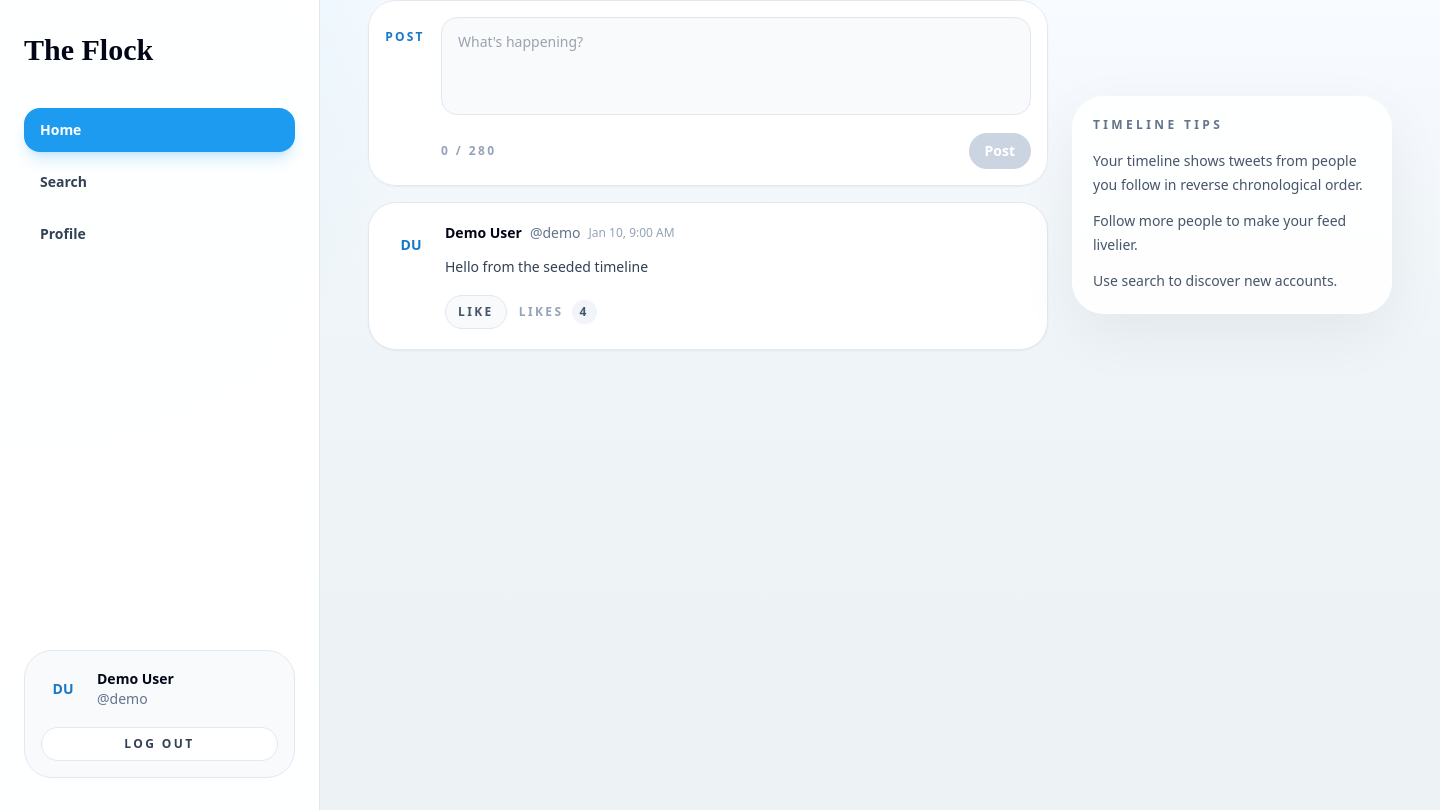
Timeline page › shows a friendly message when the like mutation fails
The width and height of the screenshot is (1440, 810).
Click the button "Like": point(476, 312) [445, 295, 507, 329]
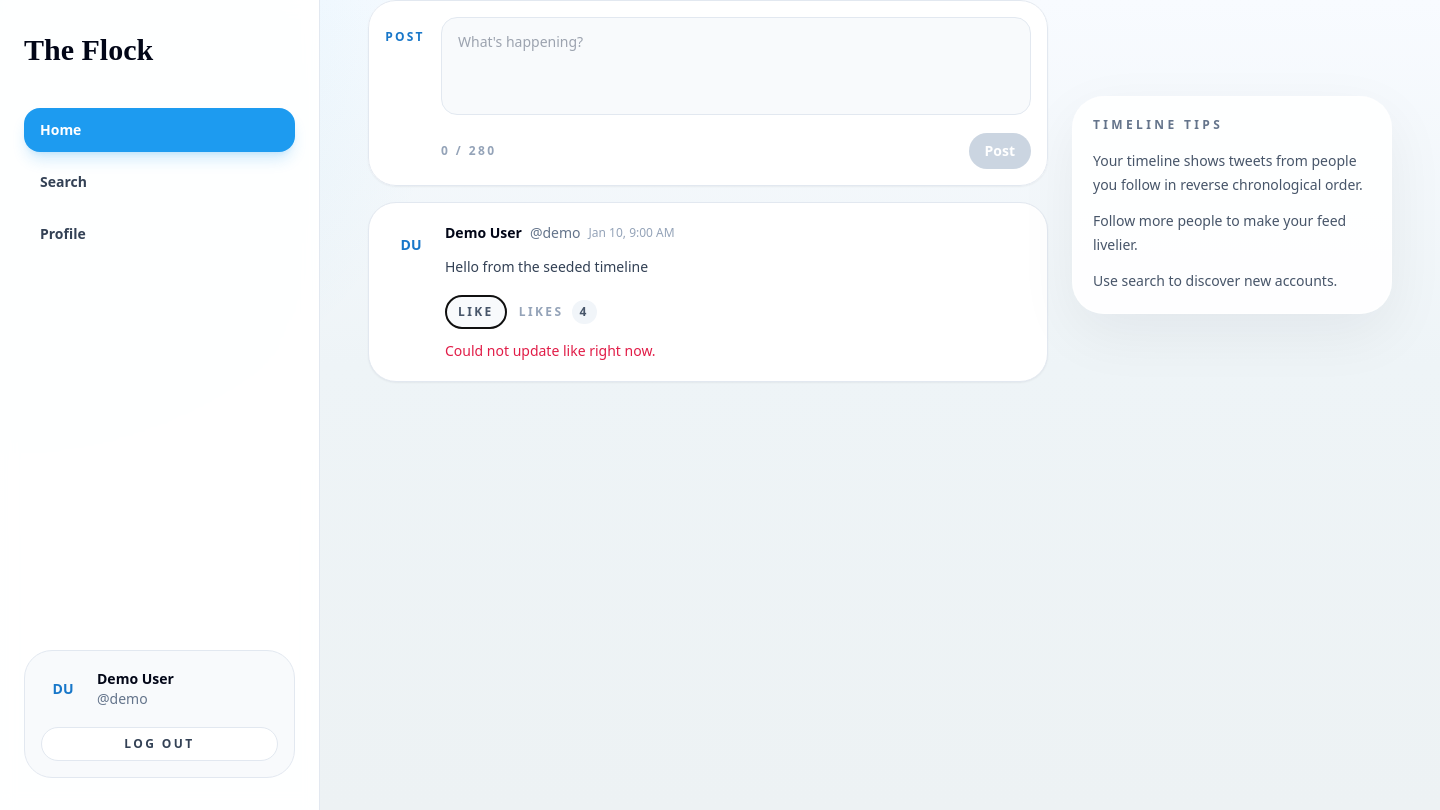
Now the text "Could not update like right now." is shown, box [445, 341, 656, 360]
